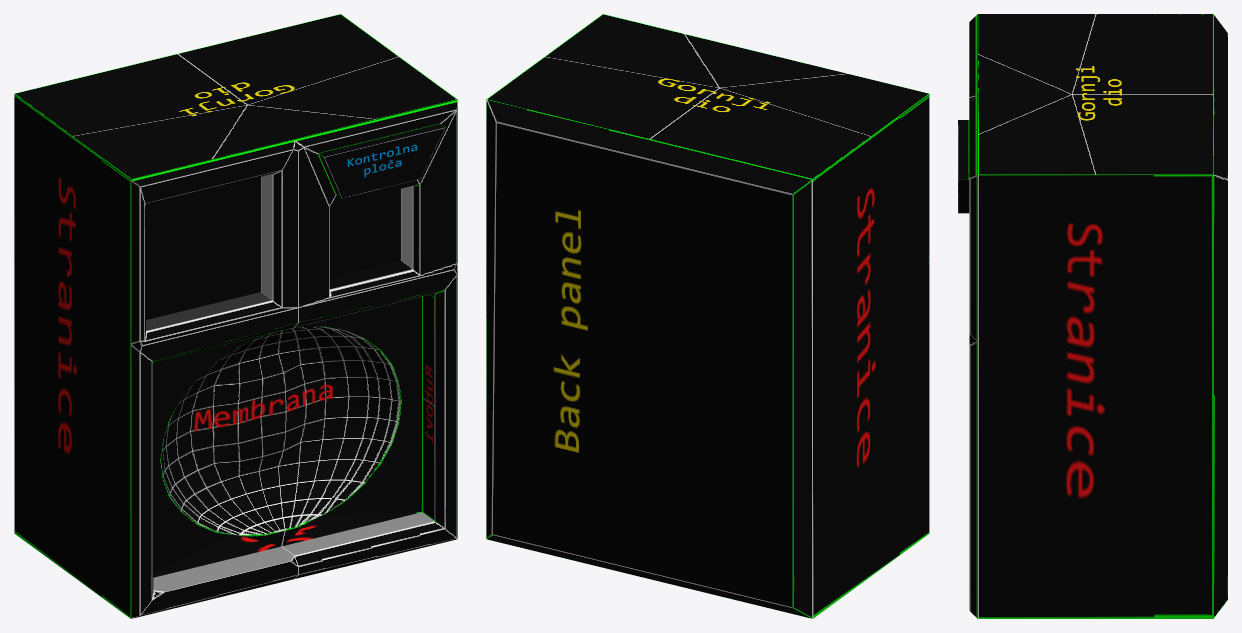
Rendered from speaker.FBX.
3 views of the same model, side by side, from view 1: azimuth 30°, elevation 25°; view 2: azimuth 150°, elevation 25°; view 3: azimuth 270°, elevation 25° (orthographic).
Parts seen in each view (by area): view 1: Box001; view 2: Box001; view 3: Box001.
Boxes of the visible parts, bbox=[...] form: Box001: bbox=[14, 14, 457, 618]; Box001: bbox=[486, 14, 929, 618]; Box001: bbox=[958, 14, 1227, 618].
Size of the model in its own units: 29.11 by 20.64 by 37.47.
Materials: 1 (1 with a texture image).
